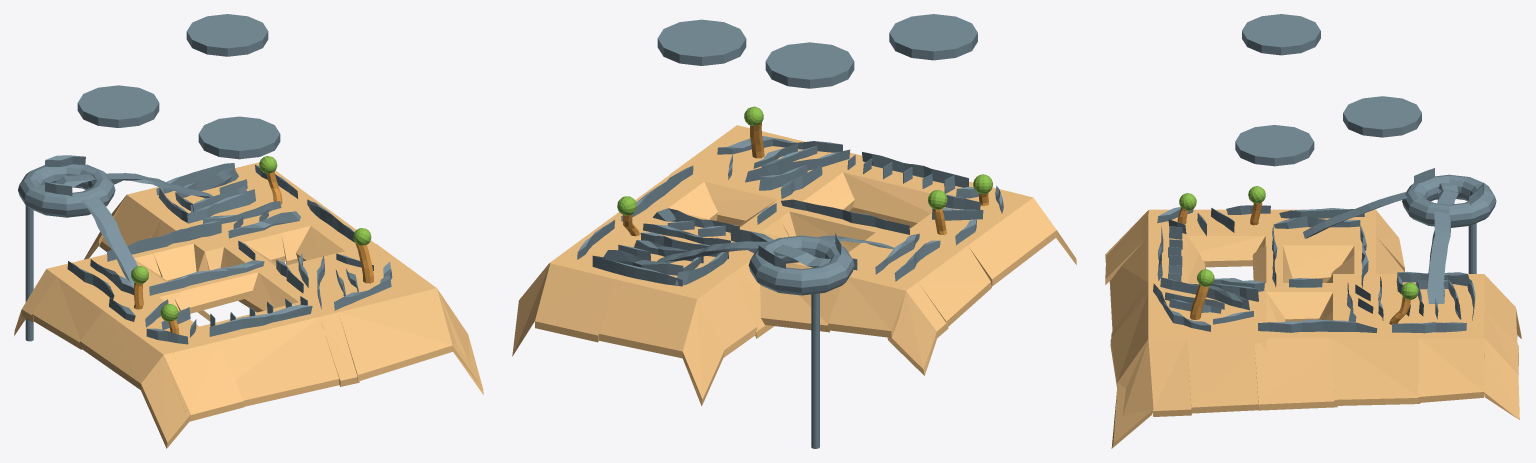
Rendered from Island3.fbx.
The picture shows the model from 3 angles, left to right: view 1: azimuth 30°, elevation 25°; view 2: azimuth 150°, elevation 25°; view 3: azimuth 270°, elevation 25°; orthographic projection. The views are drawn at different scales.
Parts seen in each view (by area): view 1: mesh_1966297598, mesh_237893881, mesh_557047986, mesh_1537954793, mesh_1216959868, group_56463273, group_1327841512, group_1523642869, group_1448430361, mesh_1745587787, group_161218602, group_1383275566 (+8 smaller); view 2: mesh_1966297598, mesh_237893881, mesh_1537954793, mesh_557047986, mesh_1216959868, mesh_1745587787, group_1523642869, group_1448430361, group_1955318278, group_167721300, group_28771841, group_1383275566 (+9 smaller); view 3: mesh_1966297598, mesh_237893881, mesh_1537954793, mesh_1216959868, mesh_557047986, group_1383275566, group_1342005854, group_167721300, group_56463273, group_1202130256, group_1471608999, group_1838759169 (+4 smaller).
Part boxes in pixels (x1,y1,x2,y2): mesh_1966297598: [14, 162, 483, 448]; mesh_237893881: [18, 164, 115, 217]; mesh_557047986: [186, 14, 268, 56]; mesh_1537954793: [198, 116, 280, 159]; mesh_1216959868: [77, 85, 159, 127]; group_56463273: [82, 196, 137, 284]; group_1327841512: [107, 220, 221, 261]; group_1523642869: [149, 260, 264, 295]; group_1448430361: [209, 304, 312, 336]; mesh_1745587787: [25, 206, 33, 341]; group_161218602: [187, 189, 255, 223]; group_1383275566: [107, 173, 212, 198]; mesh_1966297598: [512, 125, 1076, 406]; mesh_237893881: [748, 235, 854, 295]; mesh_1537954793: [765, 42, 854, 88]; mesh_557047986: [657, 19, 746, 65]; mesh_1216959868: [889, 14, 977, 60]; mesh_1745587787: [811, 293, 819, 448]; group_1523642869: [781, 199, 909, 234]; group_1448430361: [862, 152, 968, 187]; group_1955318278: [592, 255, 682, 286]; group_167721300: [745, 149, 850, 182]; group_28771841: [717, 136, 842, 154]; group_1383275566: [657, 241, 769, 263]; mesh_1966297598: [1105, 209, 1521, 448]; mesh_237893881: [1402, 174, 1496, 227]; mesh_1537954793: [1235, 125, 1314, 166]; mesh_1216959868: [1242, 14, 1320, 55]; mesh_557047986: [1343, 96, 1421, 137]; group_1383275566: [1427, 211, 1451, 304]; group_1342005854: [1258, 319, 1377, 332]; group_167721300: [1160, 277, 1249, 310]; group_56463273: [1303, 191, 1407, 238]; group_1202130256: [1392, 322, 1466, 333]; group_1471608999: [1274, 216, 1360, 228]; group_1838759169: [1279, 208, 1364, 218].
Size of the model in its own units: 338 by 300 by 375.
